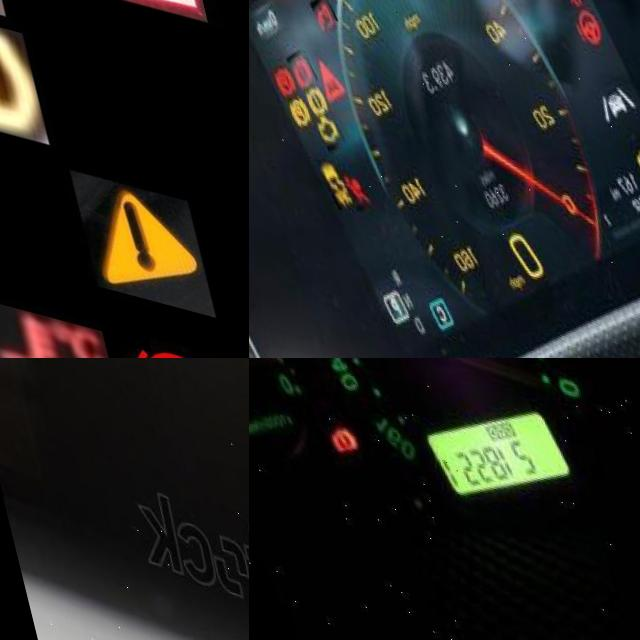Central Warning lamp: (55, 155, 196, 297)
Engine cooling system: (0, 291, 94, 358)
